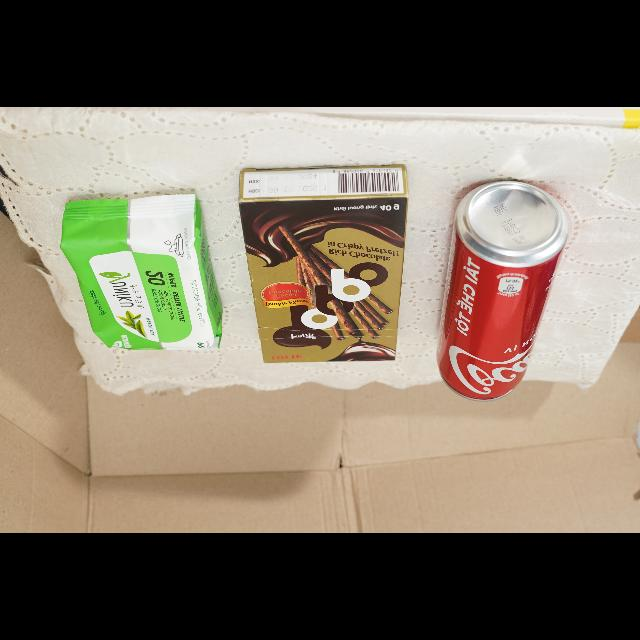banh_toppo_socola: (239, 165, 408, 362)
coca_cola: (437, 180, 568, 400)
khan_giay: (61, 194, 221, 350)
